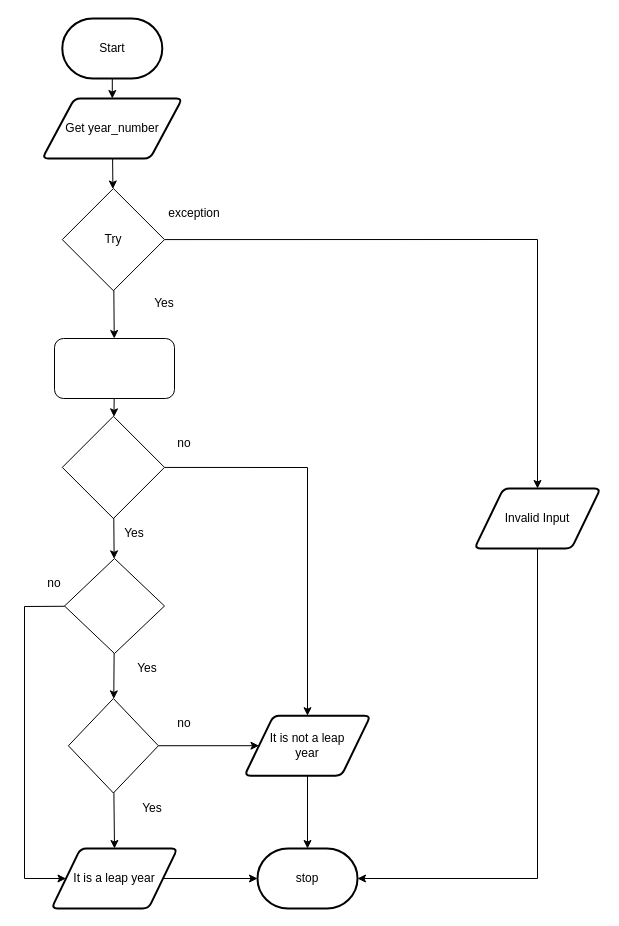
This 619x926 diagram has some shape labels left out. Each missing label, with the centre of its shape:
convert string to int: point 114,368
if year %100 == 0: point 114,606
If year %4 == 0: point 112,466
if year %400: point 112,745
